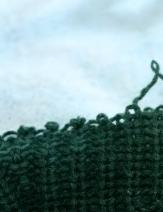snag: (127, 58, 163, 118)
